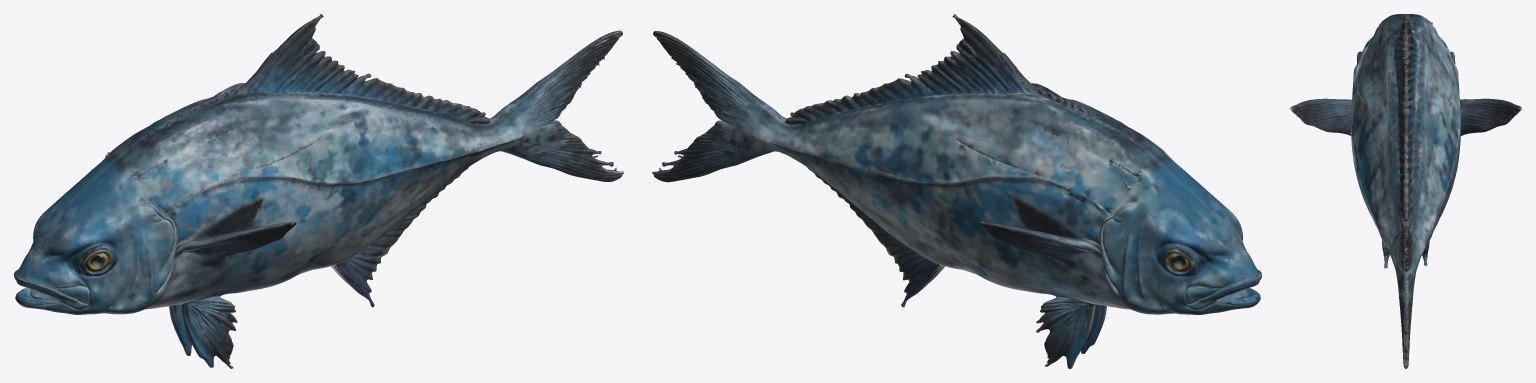
File: medregal.glb
3 views of the same model, side by side, from view 1: azimuth 30°, elevation 25°; view 2: azimuth 150°, elevation 25°; view 3: azimuth 270°, elevation 25° (orthographic). The views are drawn at different scales.
Visible parts, largest first — view 1: Medregal; view 2: Medregal; view 3: Medregal.
Boxes of the visible parts, x1,y1,x2,y2 form: Medregal: [14, 14, 623, 368]; Medregal: [652, 14, 1261, 368]; Medregal: [1290, 14, 1521, 368].
Size of the model in its own units: 0.4891 by 0.2475 by 0.1768.
Materials: 1 (1 with a texture image).
